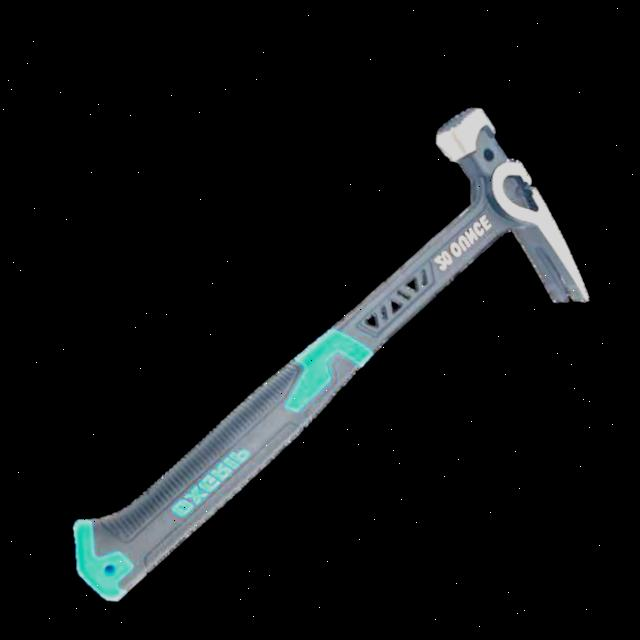hammer: (56, 68, 603, 636)
